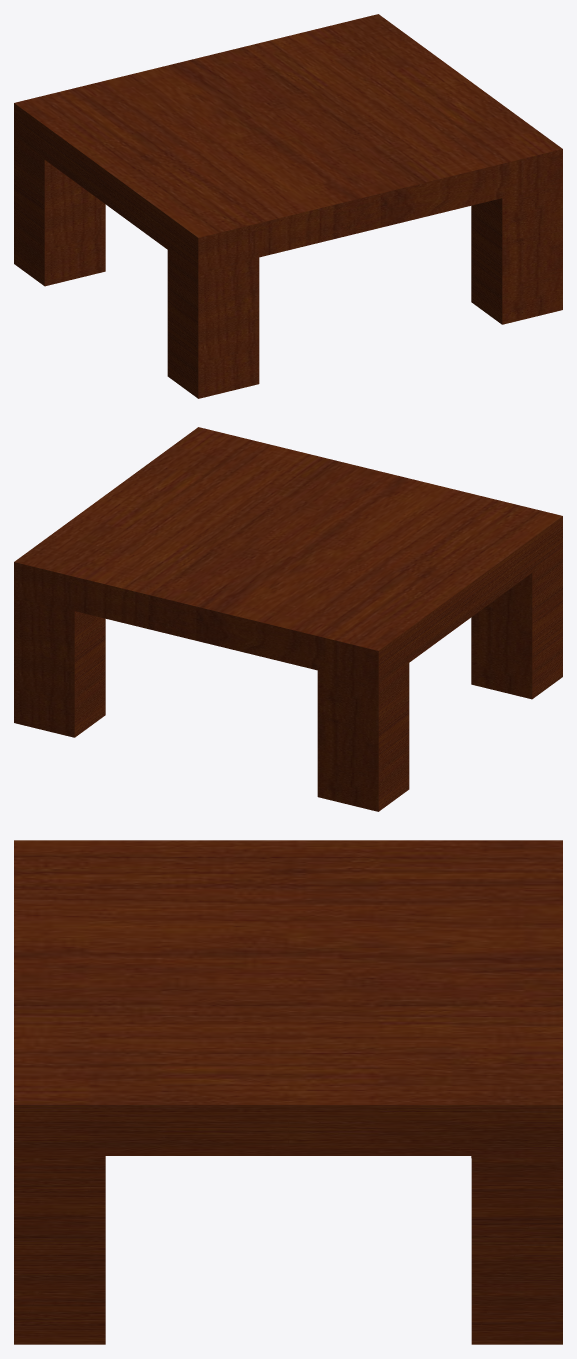
The model's file is Coffee Table.FBX.
The picture shows the model from 3 angles, top to bottom: view 1: azimuth 30°, elevation 25°; view 2: azimuth 150°, elevation 25°; view 3: azimuth 270°, elevation 25°; orthographic projection. The views are drawn at different scales.
Visible parts, largest first — view 1: Dining room table; view 2: Dining room table; view 3: Dining room table.
Boxes of the visible parts, x1=… form: Dining room table: x1=14, y1=14, x2=562, y2=398; Dining room table: x1=14, y1=427, x2=562, y2=811; Dining room table: x1=14, y1=840, x2=562, y2=1344.
Size of the model in its own units: 83.67 by 35.3 by 73.33.
1 material, 1 textured.
